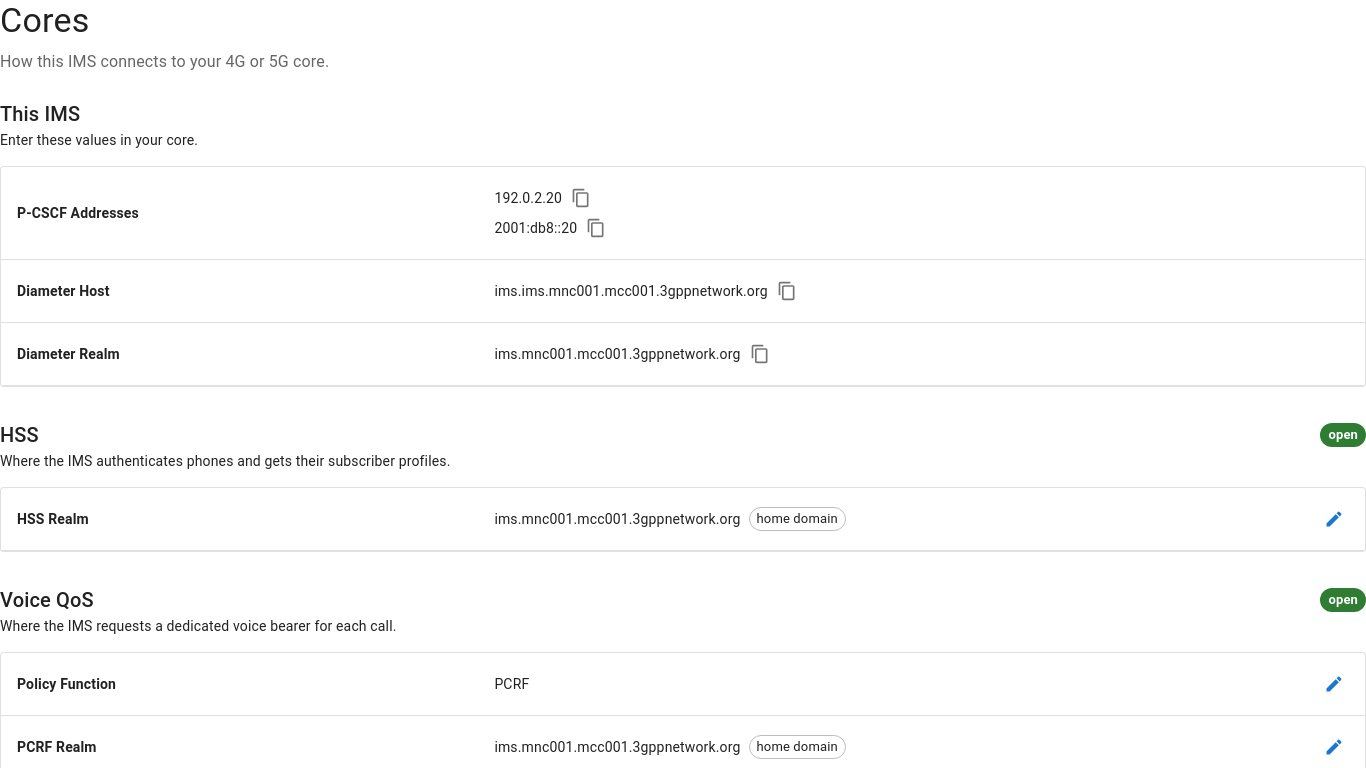
it: Cores › switches voice QoS to a PCF
Click the button named "Edit Policy Function" at [1334, 684], box [1319,669,1349,699]
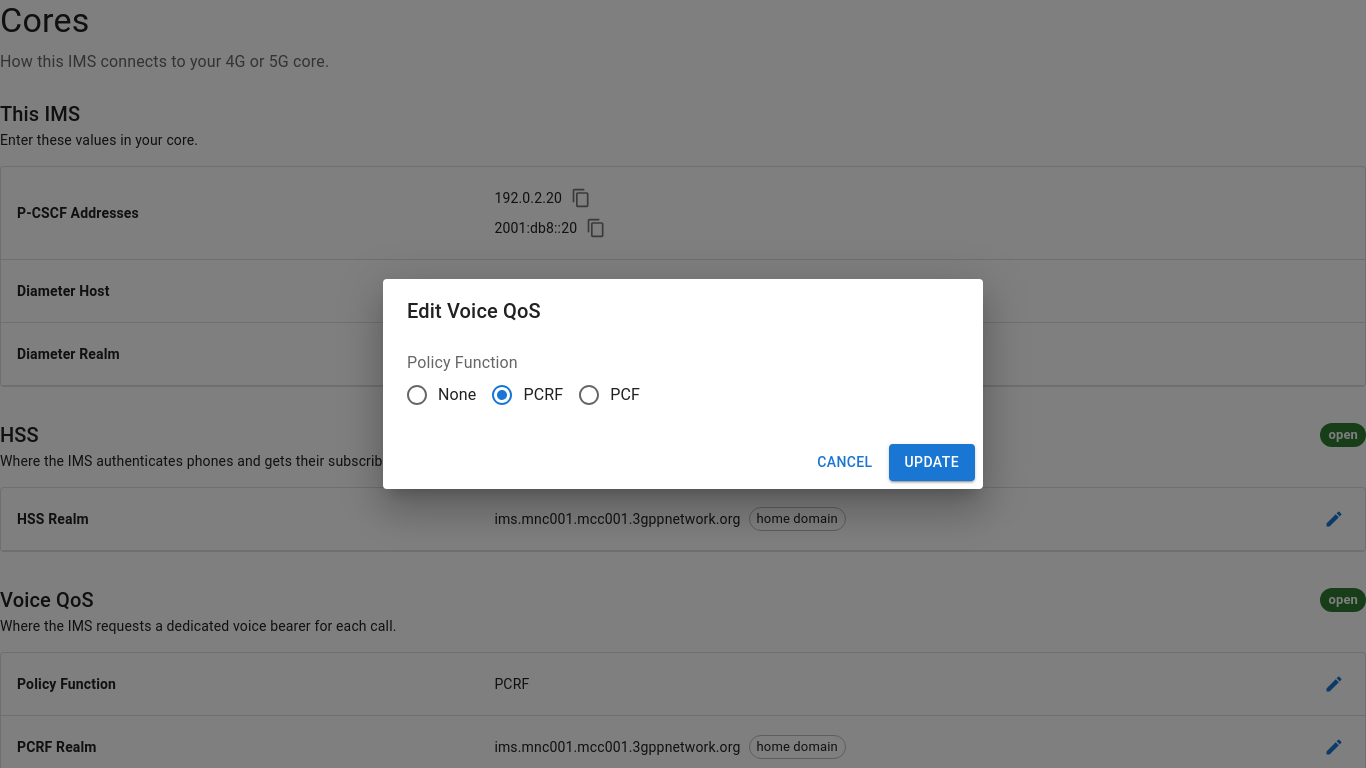
Click the radio button labelled "PCF" at [609, 395], box [577,383,640,407]
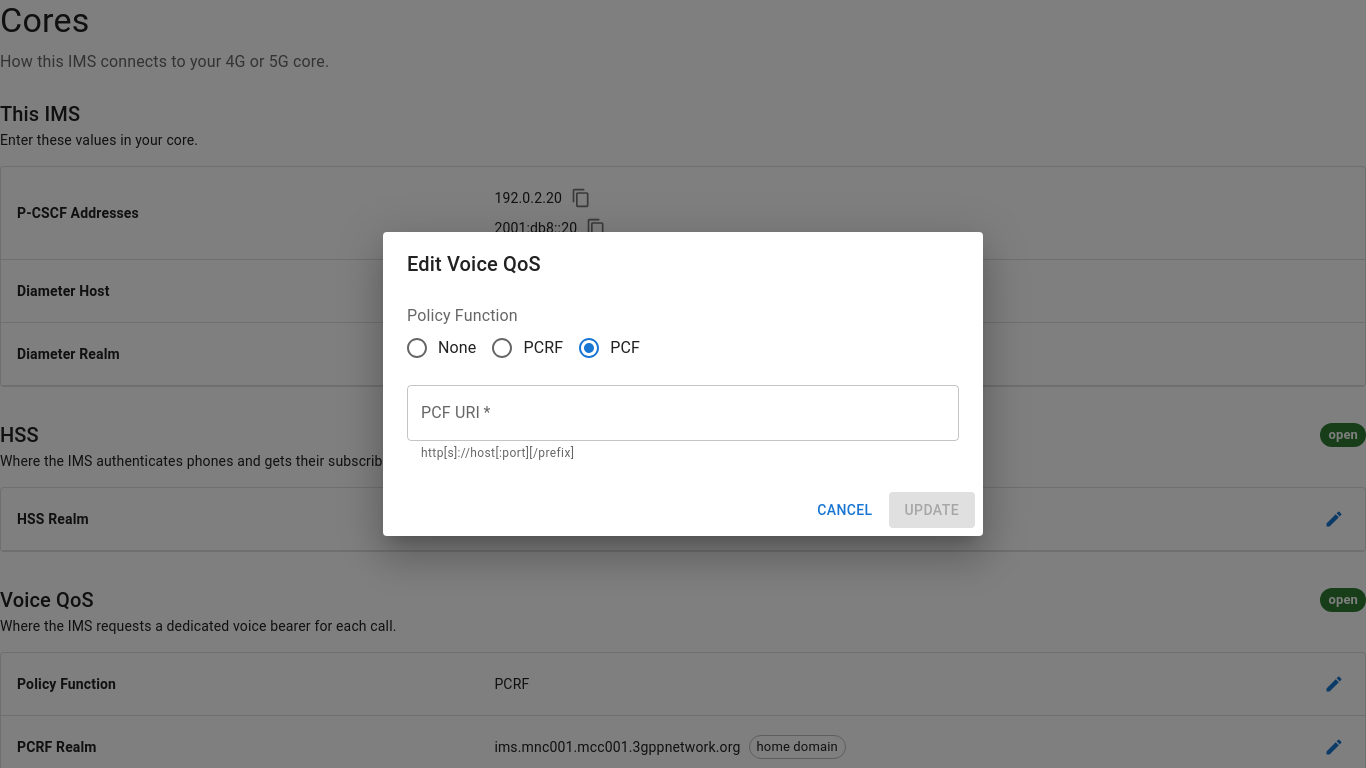
Check: the button "Update" is disabled, box [889,492,975,528]
Type "pcf.example.org" into the field labelled "PCF URI *" at [683, 413], box [407,385,959,441]
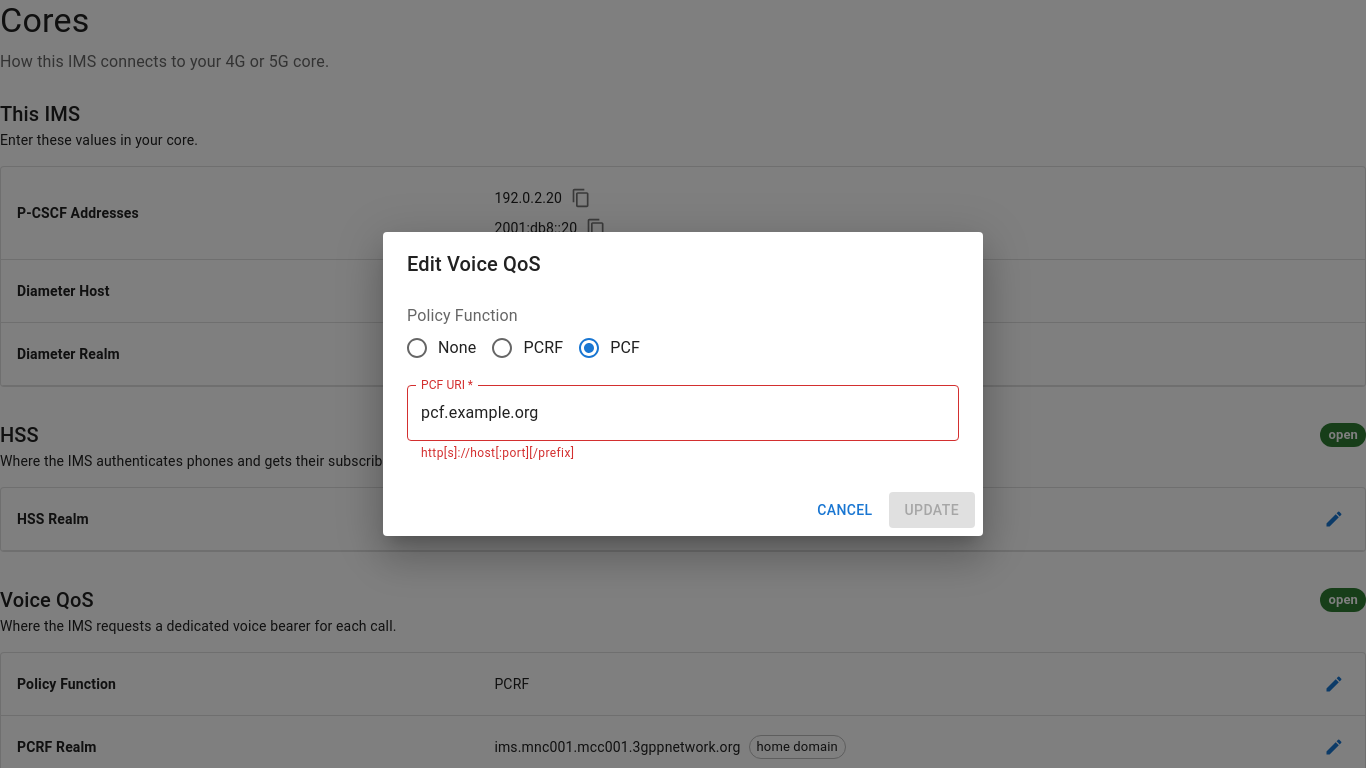
Check: the text "http[s]://host[:port][/prefix]" is shown, box [421,446,574,460]
Replace the text in the field labelled "PCF URI *" with "https://pcf.example.org" at [683, 413], box [407,385,959,441]
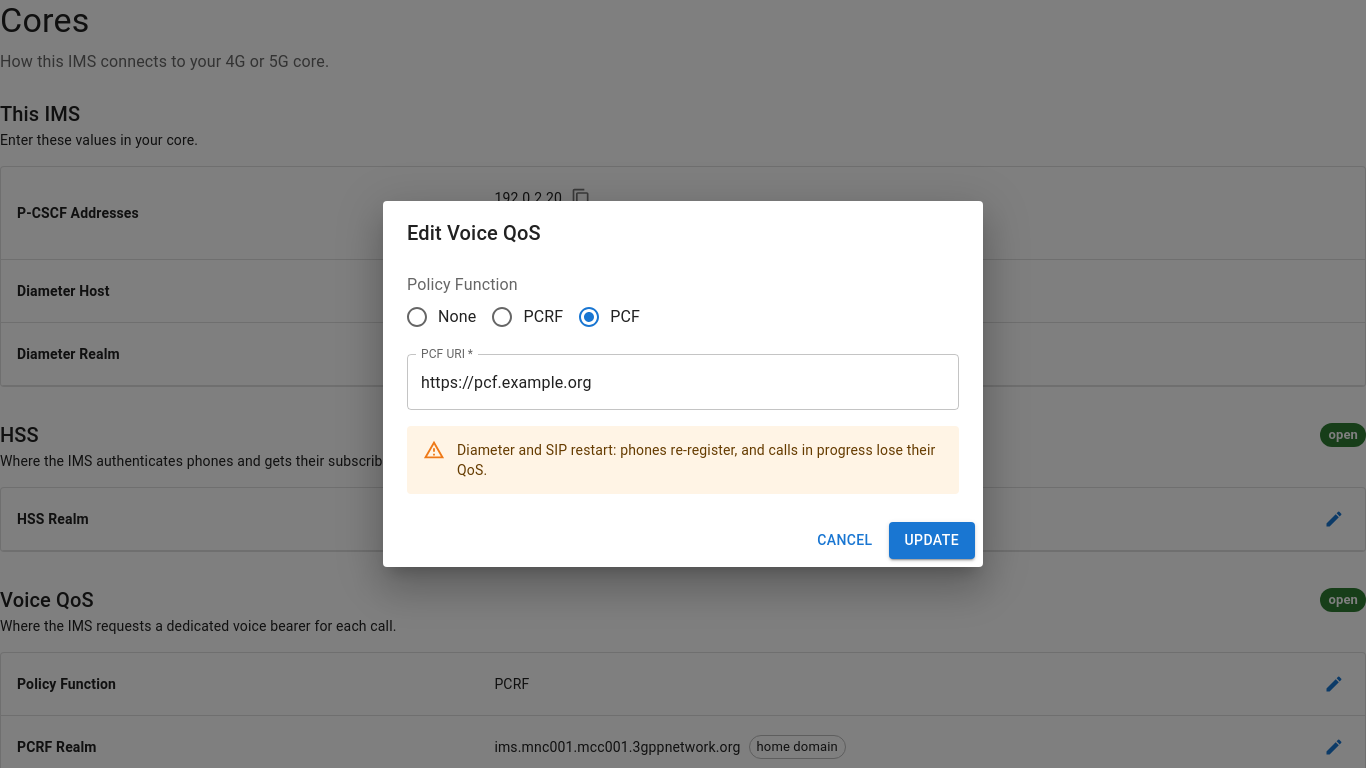
Check: the message shows "Diameter and SIP restart", box [457,442,935,478]
Click the button "Update" at [932, 541], box [889,522,975,559]
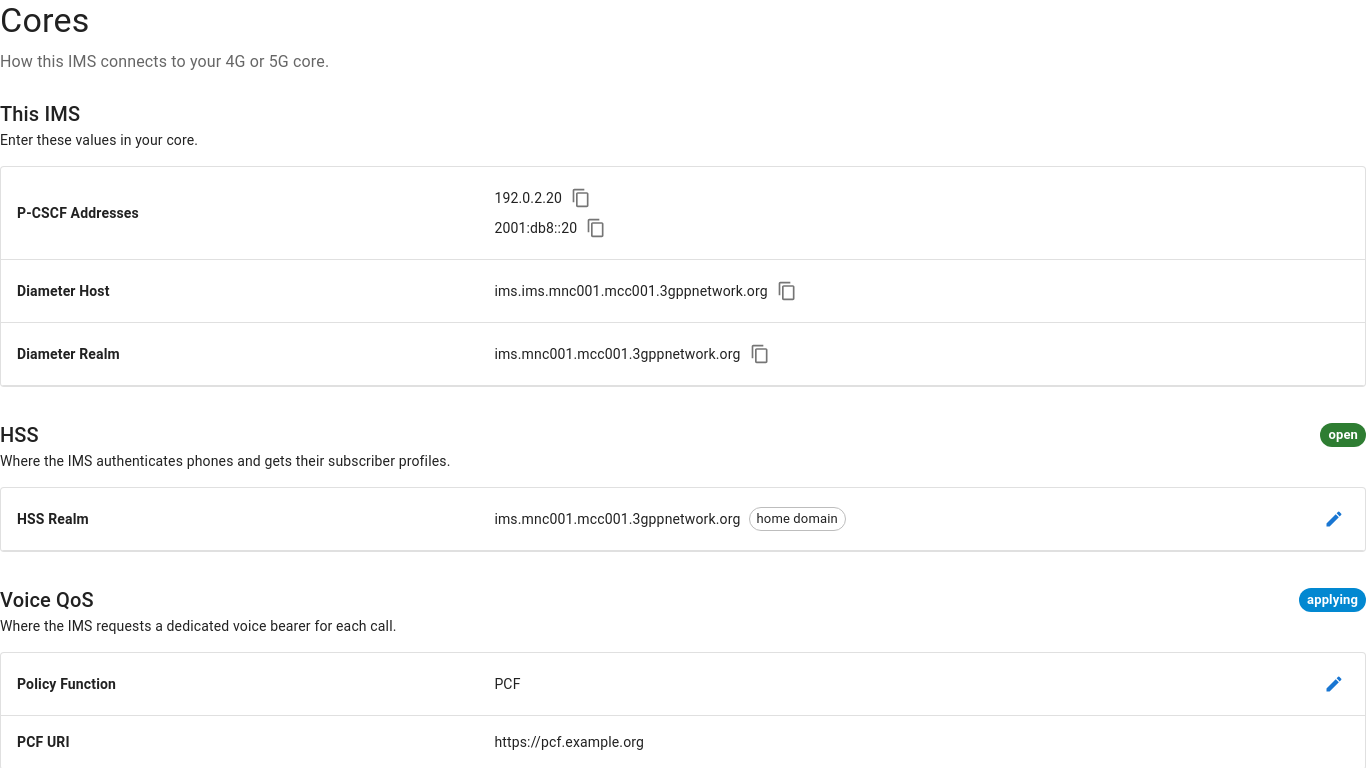
Check: the dialog is gone
